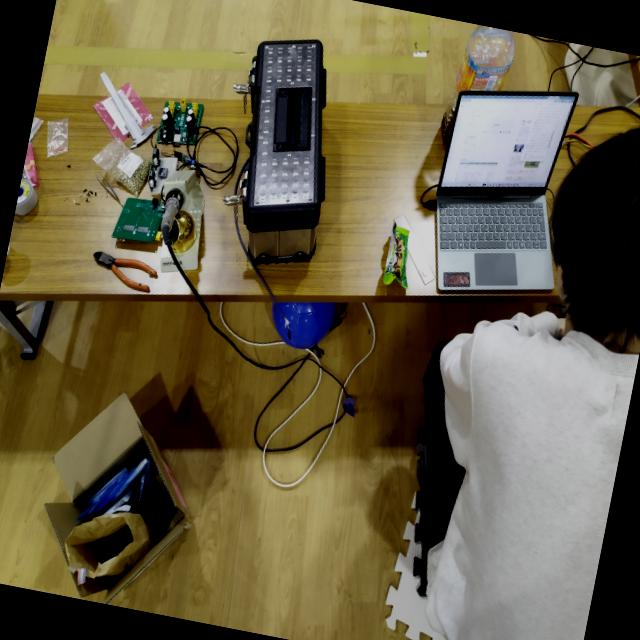blue_ball: (258, 282, 360, 366)
